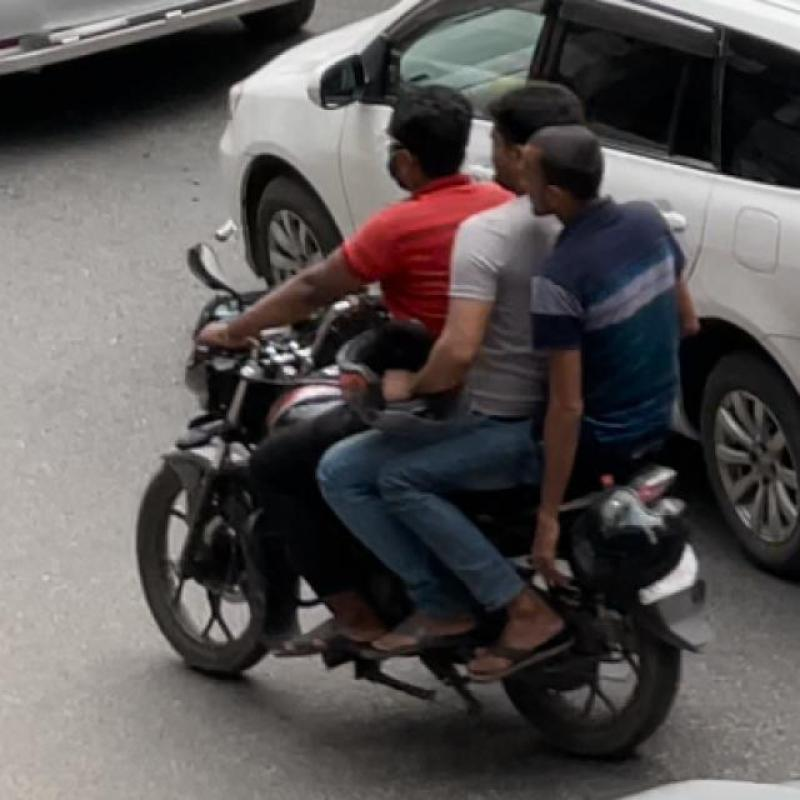nohelmet: (517, 108, 613, 216), (382, 86, 487, 172)
